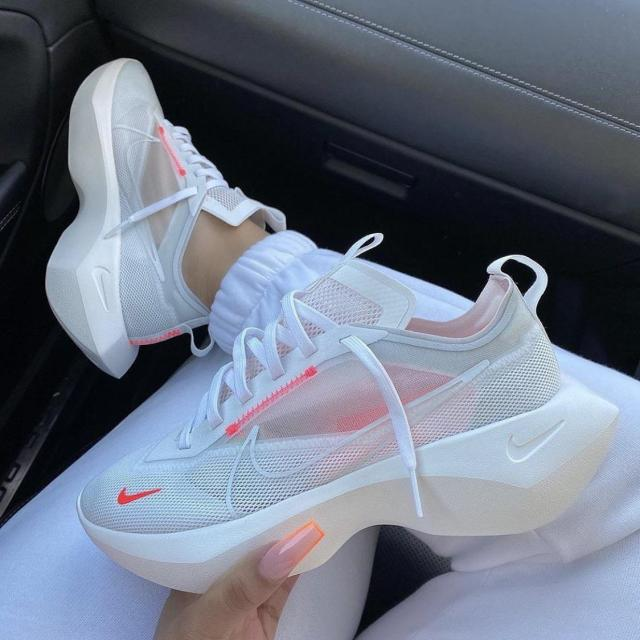shoe: (71, 223, 624, 603), (35, 48, 292, 391)
